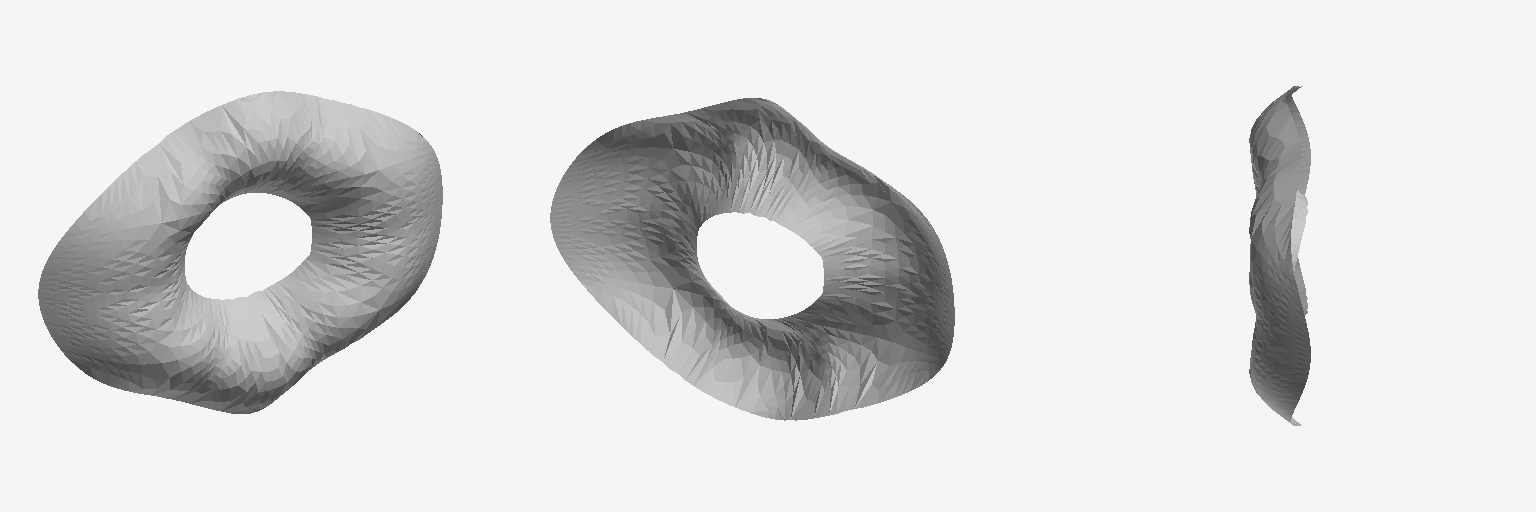
Rendered from OVO2_opt_final.obj.
3 renders of one model, left to right at view 1: azimuth 30°, elevation 25°; view 2: azimuth 150°, elevation 25°; view 3: azimuth 270°, elevation 25°, orthographic.
Parts seen in each view (by area): view 1: samples/OVO2_opt_final; view 2: samples/OVO2_opt_final; view 3: samples/OVO2_opt_final.
Boxes of the visible parts, box(x1,y1,x2,y2) form: samples/OVO2_opt_final: box(38, 91, 442, 413); samples/OVO2_opt_final: box(550, 98, 954, 420); samples/OVO2_opt_final: box(1249, 86, 1310, 425).
Bounding box in the file's own units: 27.97 × 21.05 × 3.71.